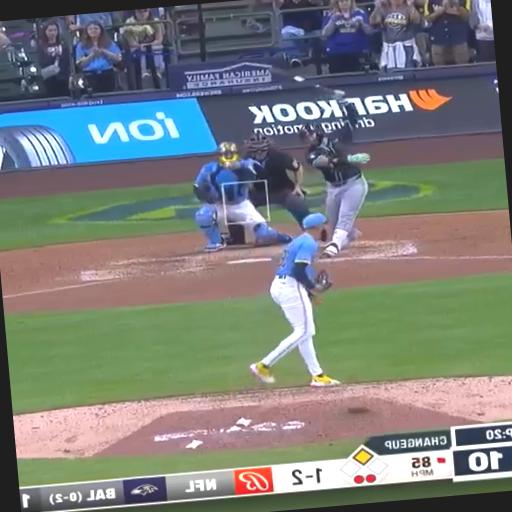bat: (271, 66, 344, 100)
